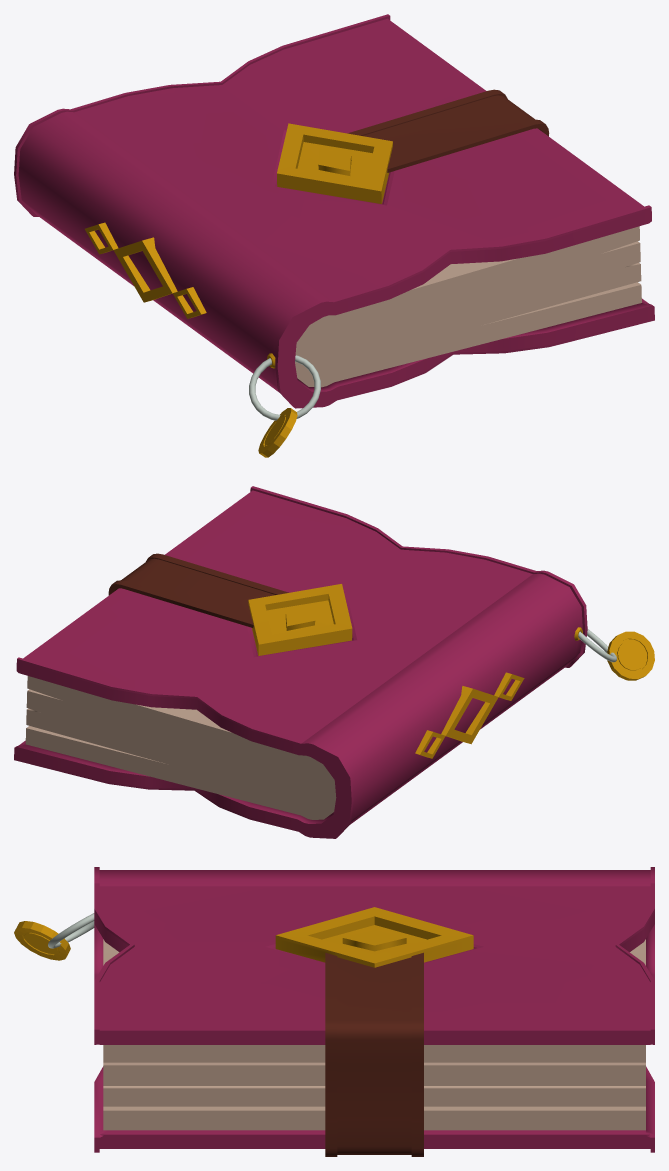
File: (Item)Aishas-Diary.fbx
3 renders of one model, top to bottom at view 1: azimuth 30°, elevation 25°; view 2: azimuth 150°, elevation 25°; view 3: azimuth 270°, elevation 25°, orthographic. The views are drawn at different scales.
Parts seen in each view (by area): view 1: Aisha Diary; view 2: Aisha Diary; view 3: Aisha Diary.
Boxes of the visible parts, x1,y1,x2,y2 form: Aisha Diary: [14, 14, 654, 457]; Aisha Diary: [14, 486, 654, 838]; Aisha Diary: [14, 867, 654, 1156].
Size of the model in its own units: 31.51 by 9.74 by 38.53.
